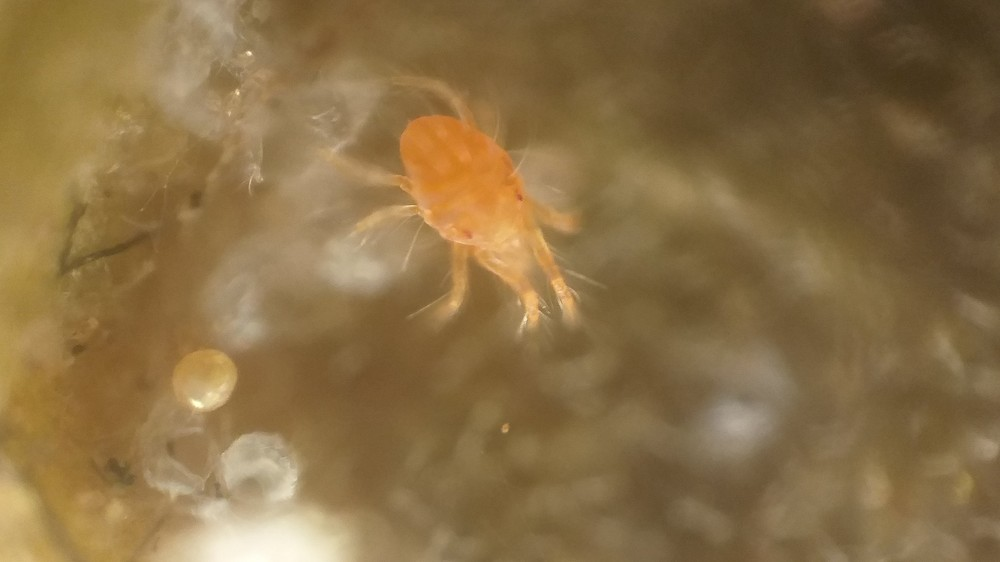Aracnido Rojo: (302, 58, 636, 384)
